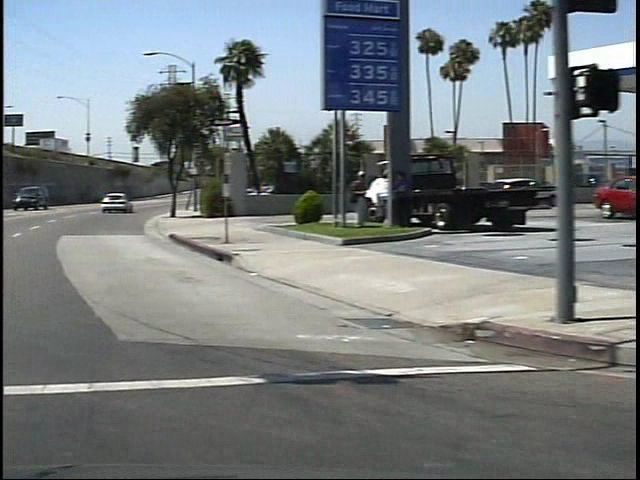person: (338, 163, 363, 228)
